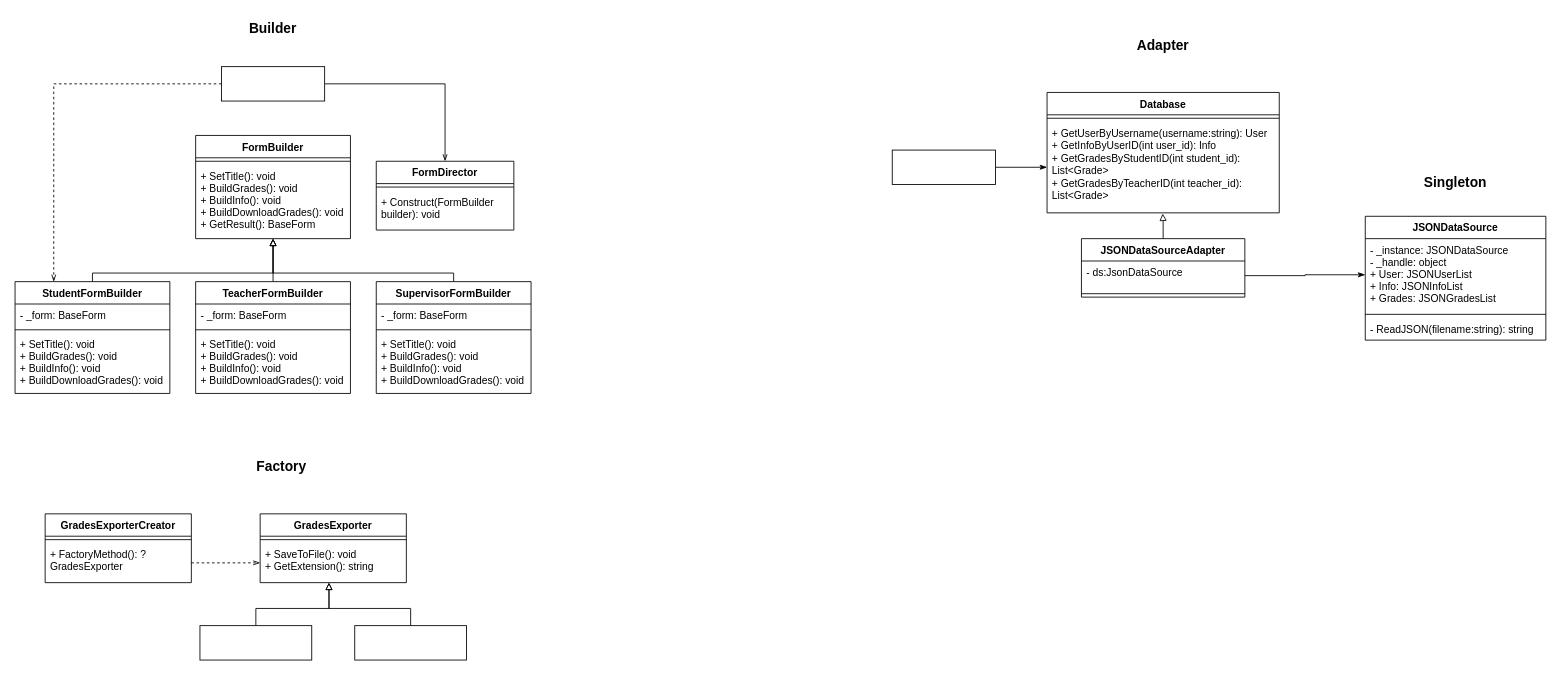
Some shapes in this 1561 by 675 pixel diagram are drawn without their labels. Each missing label, with the centre of its shape:
"DOCXGradesExporter" belongs at point (410, 642).
"LoginForm (Client)" belongs at point (273, 83).
"Multiple Clients" belongs at point (943, 166).
"TXTGradesExporter" belongs at point (255, 642).
